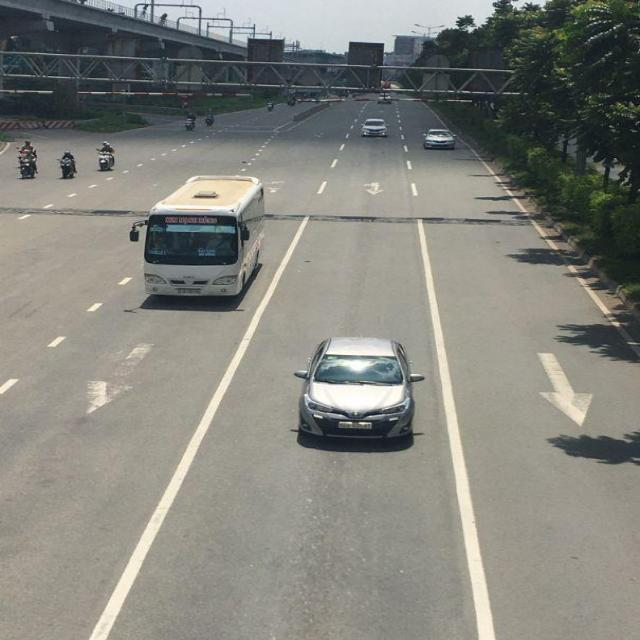bus: (142, 174, 268, 306)
car: (295, 335, 420, 446), (424, 129, 456, 151), (362, 120, 389, 140)
motorcycle: (58, 152, 76, 178), (18, 158, 36, 178)
